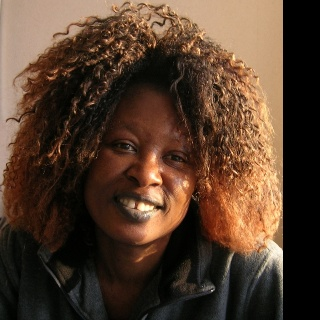without_mask: (83, 74, 196, 245)
